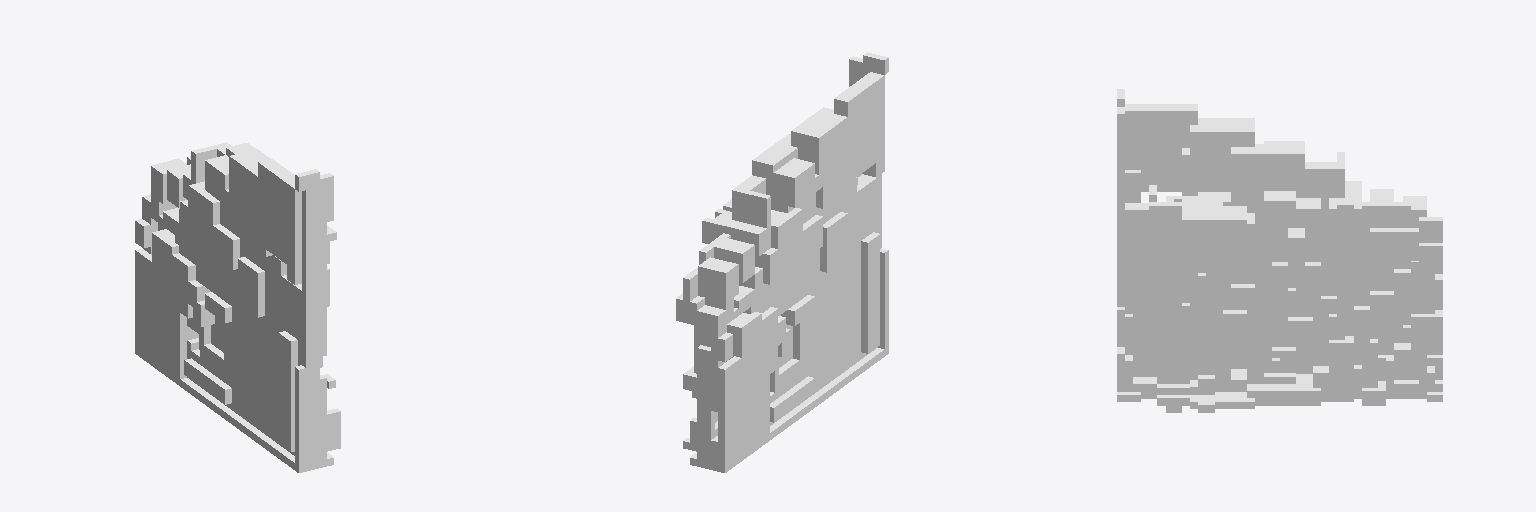
Rendered from finalwall5.obj.
The picture shows the model from 3 angles: view 1: azimuth 30°, elevation 25°; view 2: azimuth 150°, elevation 25°; view 3: azimuth 270°, elevation 25°; orthographic projection.
Parts seen in each view (by area): view 1: finalwall5; view 2: finalwall5; view 3: finalwall5.
Boxes of the visible parts, box(x1,y1,x2,y2) form: finalwall5: box(135, 142, 340, 472); finalwall5: box(676, 52, 888, 472); finalwall5: box(1117, 89, 1442, 412).
Size of the model in its own units: 11 by 40 by 40.